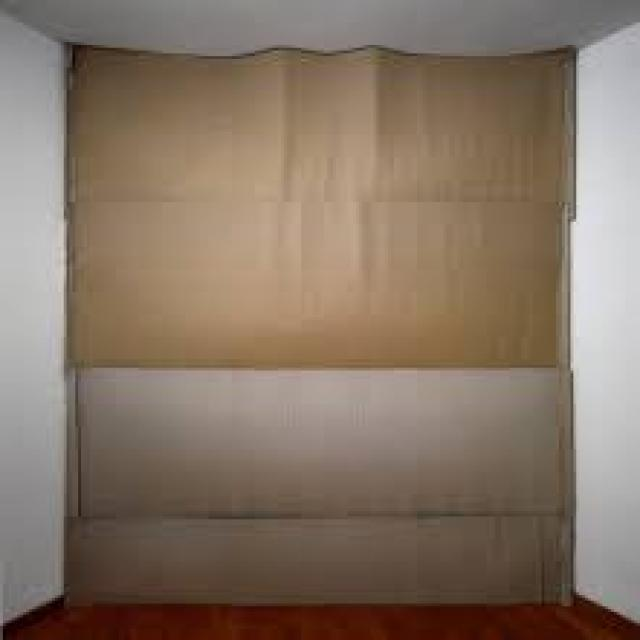cardboard: (61, 37, 573, 604)
